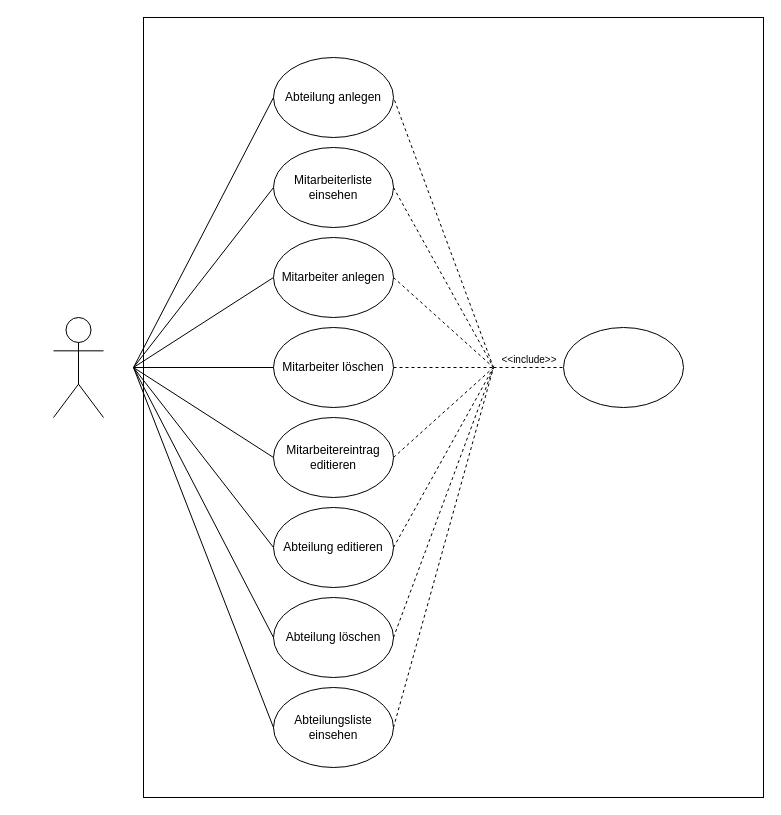
Some shapes in this 781 by 815 pixel diagram are drawn without their labels. The box of each missing label's shape, as (x1, y1, x2, y2) in pixels:
Exceptionhandling und Validierung: (562, 326, 684, 408)
Verwaltungsmitarbeiter: (52, 316, 104, 418)
